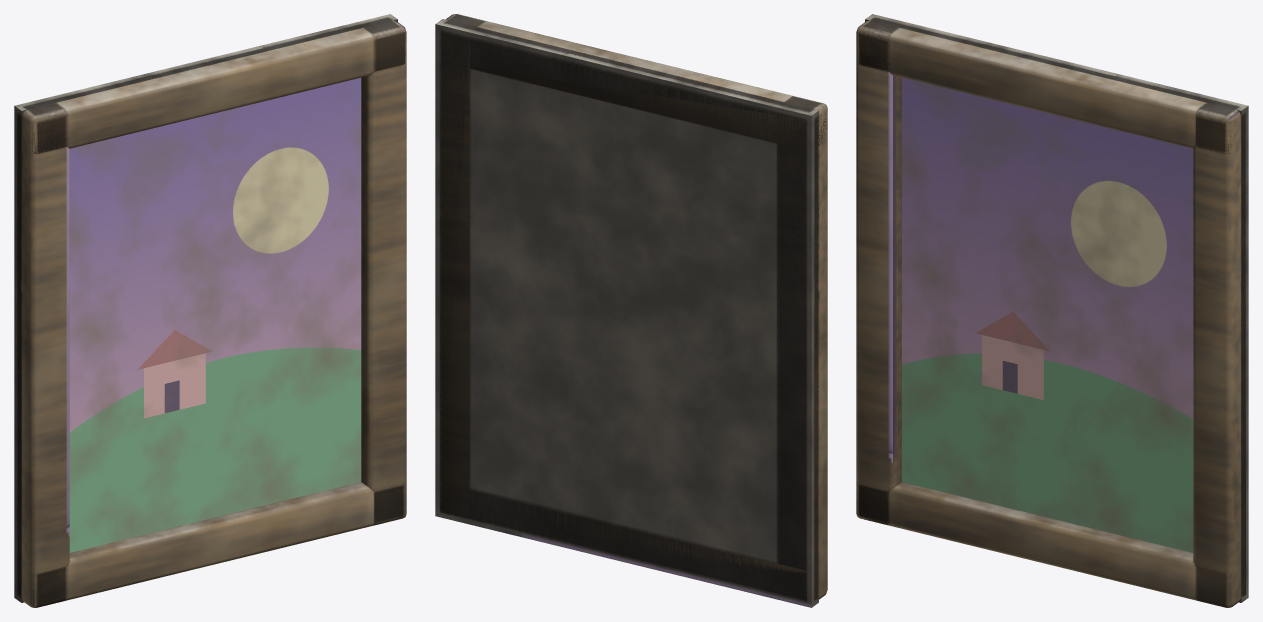
The model's file is picture_frame.fbx.
3 renders of one model, left to right at view 1: azimuth 30°, elevation 25°; view 2: azimuth 150°, elevation 25°; view 3: azimuth 330°, elevation 25°, orthographic.
Parts seen in each view (by area): view 1: Screen, Body; view 2: Body; view 3: Screen, Body.
Boxes of the visible parts, bbox=[...] form: Screen: bbox=[69, 77, 361, 552]; Body: bbox=[14, 14, 406, 607]; Body: bbox=[435, 14, 827, 607]; Screen: bbox=[901, 77, 1193, 552]; Body: bbox=[856, 14, 1248, 607].
Size of the model in its own units: 2.4 by 3 by 0.2.
Materials: 2 (2 with a texture image).
